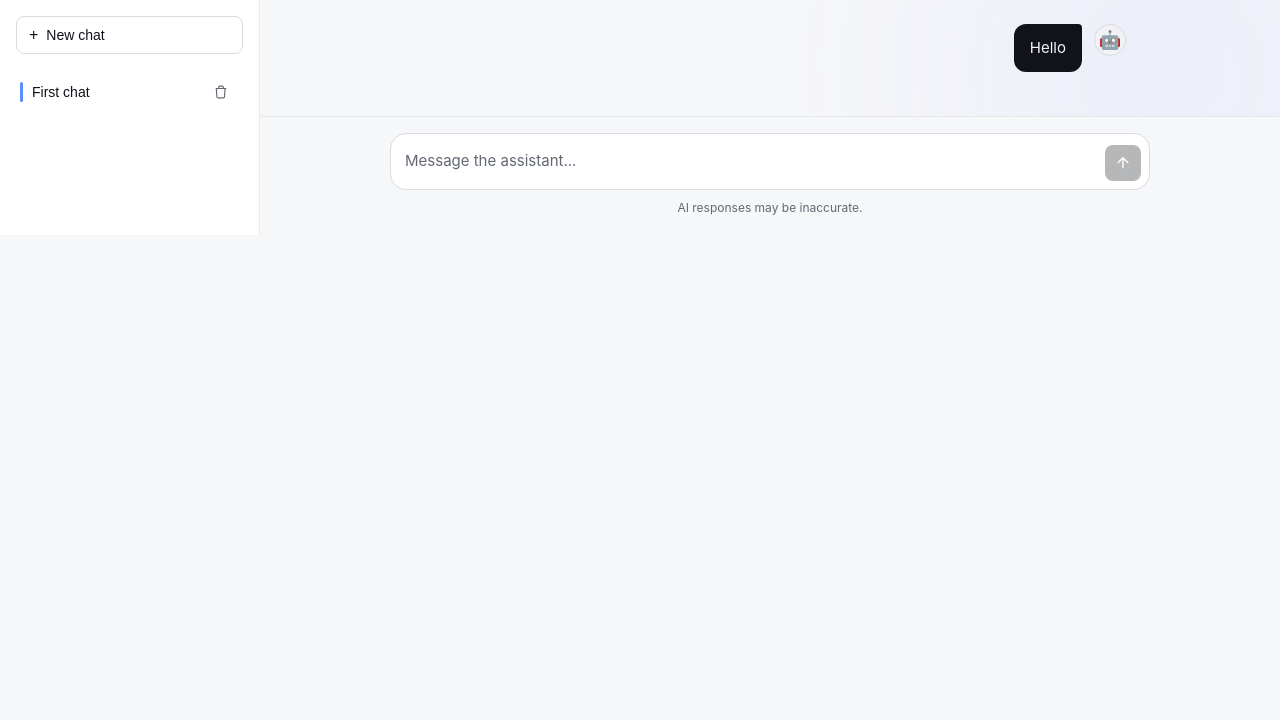
Assistant — deleting conversations › shows the empty state when the last remaining conversation is deleted
Expected: the text "Hello" is shown, x1=1014 y1=24 x2=1082 y2=72
Click the button named "Delete First chat" at (221, 92), box x1=199 y1=70 x2=243 y2=114
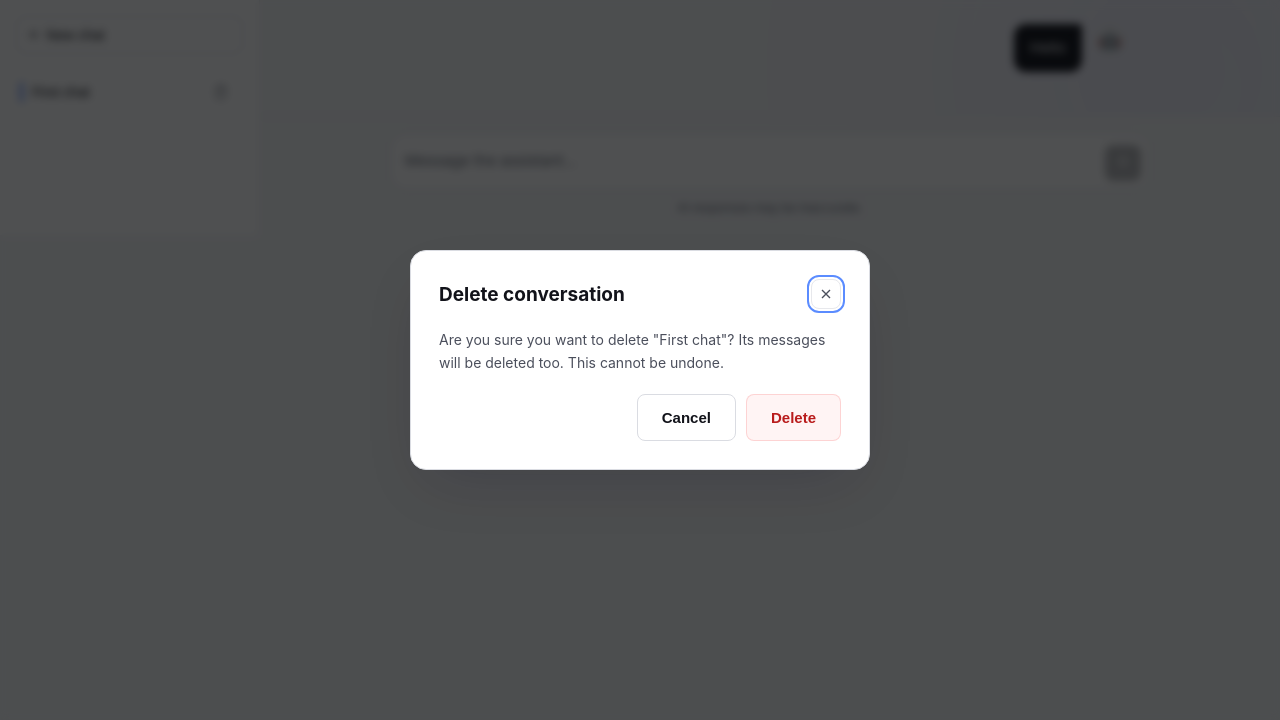
Click the button "Delete" at (794, 417), box x1=746 y1=394 x2=841 y2=441
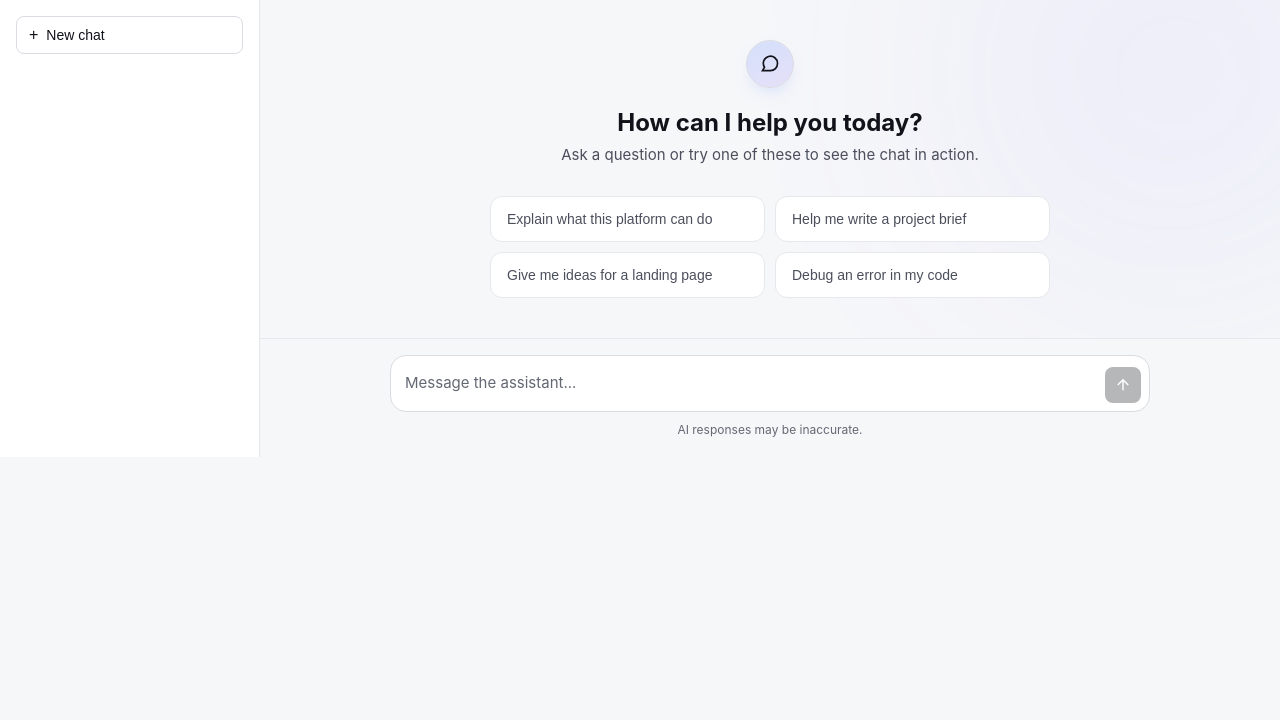
Expected: the heading "How can I help you today?" is shown, x1=617 y1=108 x2=923 y2=137
Expected: the button "First chat" is gone
Expected: the text "Hello" is gone
